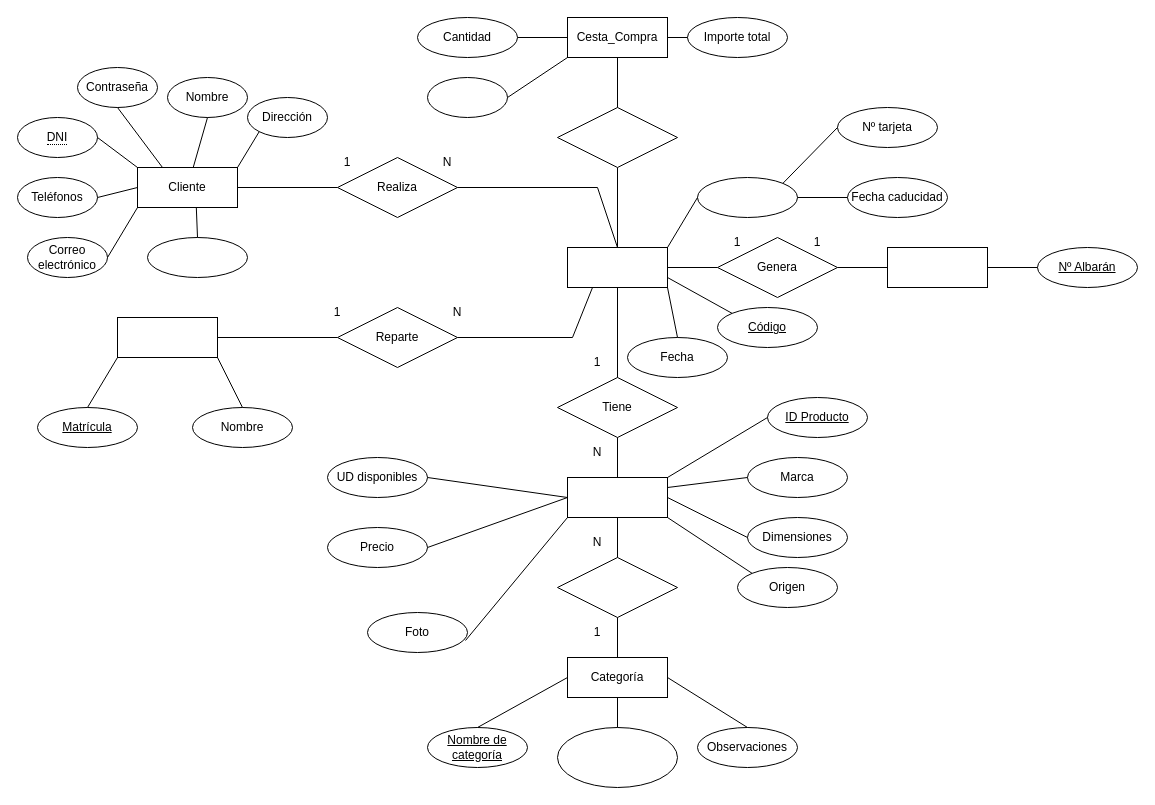
This 1155x805 diagram has some shape labels left out. The shapes that lost their labels are listed below. From the top down, each one's centre as x and y in pixels, then its label:
the point at 467,97: ID Cesta
the point at 617,137: Compone
the point at 747,197: Datos de pago
the point at 197,257: Código postal
the point at 617,267: Pedido
the point at 937,267: Albarán
the point at 167,337: Repartidor
the point at 617,497: Producto
the point at 617,587: Pertenece
the point at 617,757: Condiciones de almacenamiento
